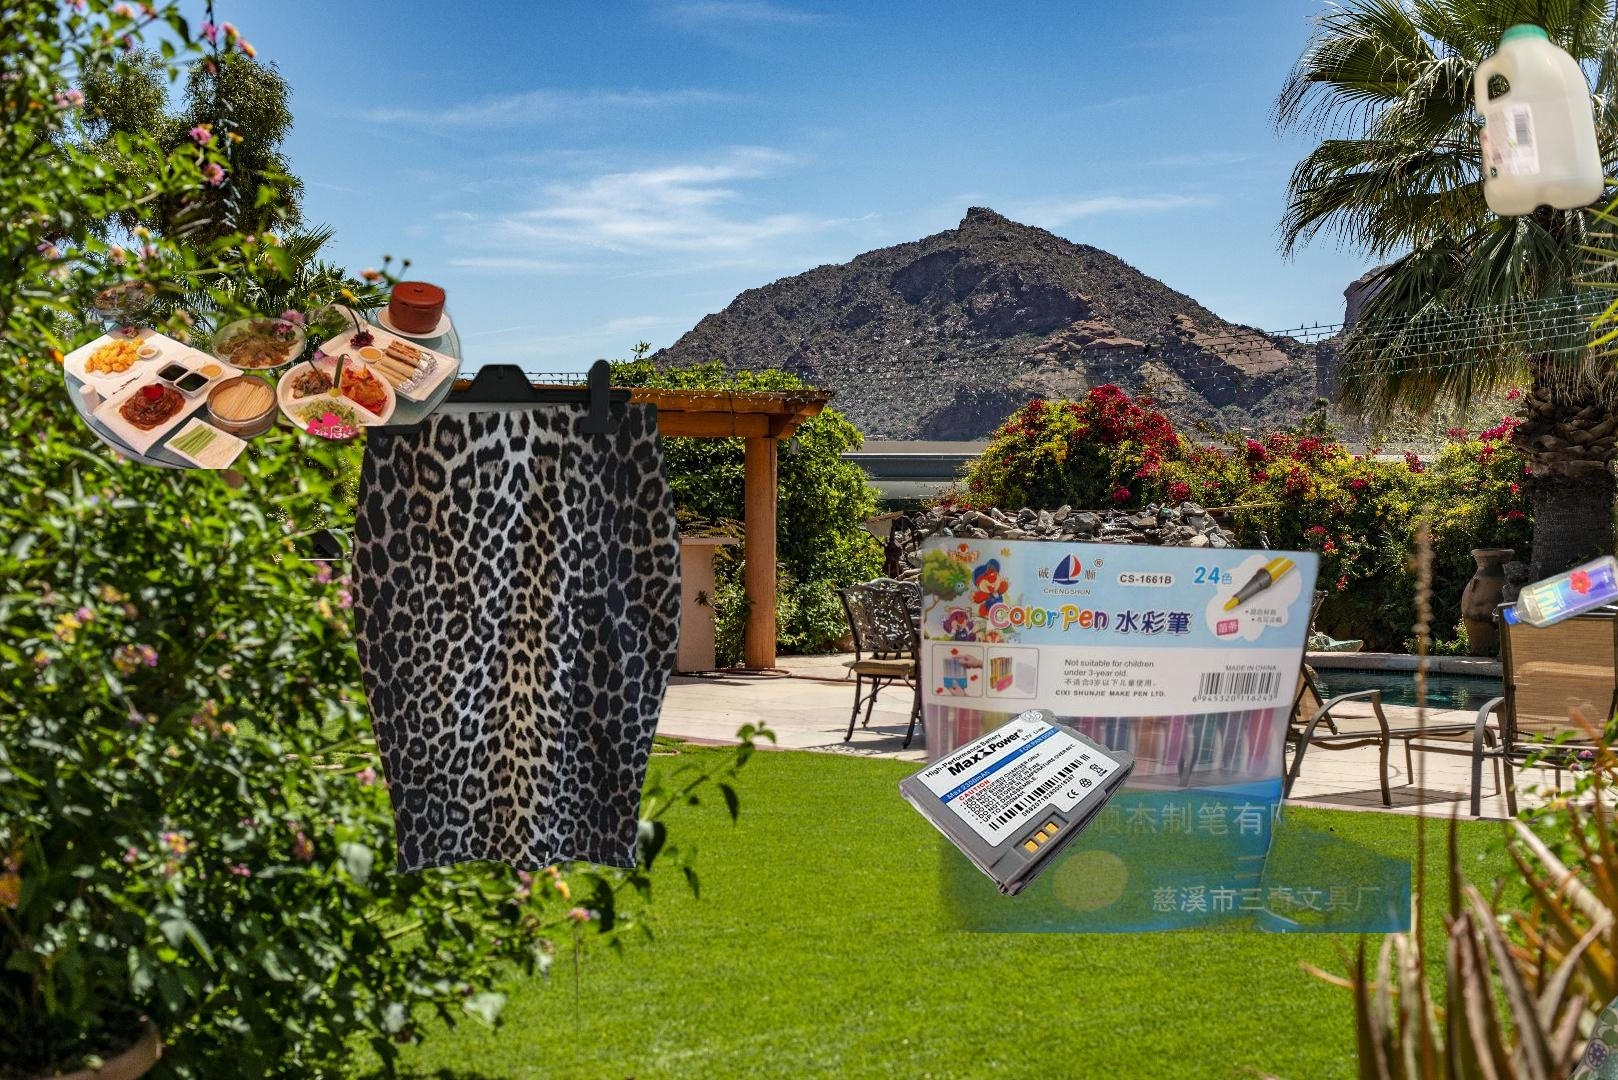battery: (895, 708, 1139, 900)
biological: (64, 223, 464, 469)
clothes: (348, 354, 686, 879)
paper: (1549, 961, 1618, 1080)
penholder: (611, 381, 1411, 933)
plastic-bottles: (1418, 548, 1618, 1080), (1469, 16, 1610, 223)
trashbox-cardboard: (66, 773, 578, 1080)
